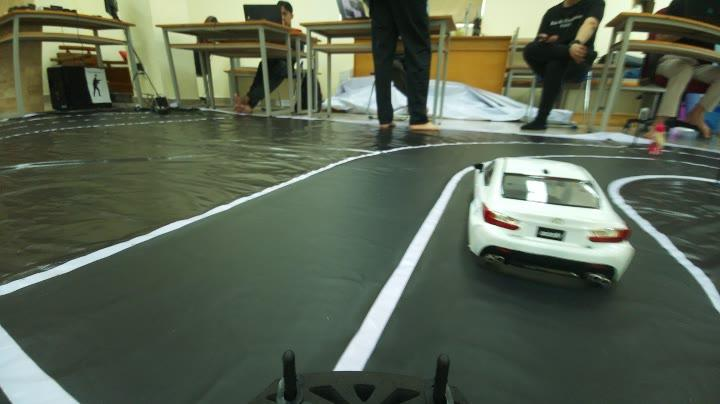car: (452, 134, 642, 293)
